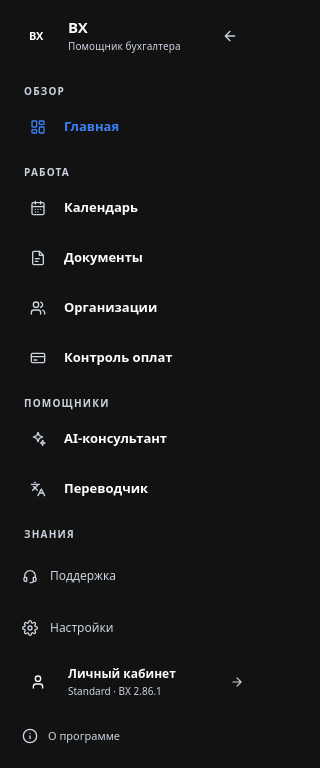
Test case: Sidebar › collapses into a navigation rail and persists the choice
Expected: the text "Календарь" is shown, x1=64 y1=198 x2=138 y2=216
Click the button named "Свернуть боковую панель" at {"x": 230, "y": 36}, box x1=208 y1=14 x2=252 y2=58
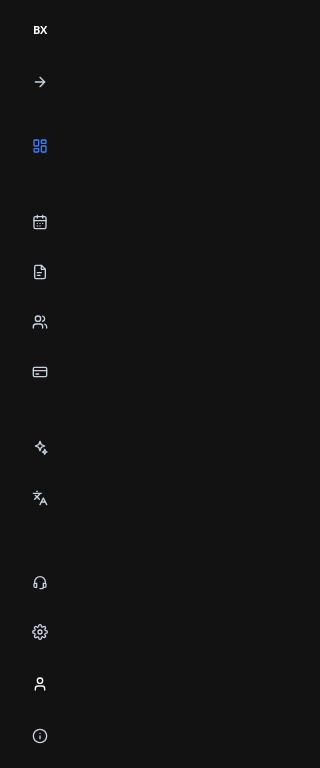
Expected: the link named "Календарь" is shown, x1=32 y1=214 x2=48 y2=230
Expected: the button named "Развернуть боковую панель" is shown, x1=18 y1=60 x2=62 y2=104
